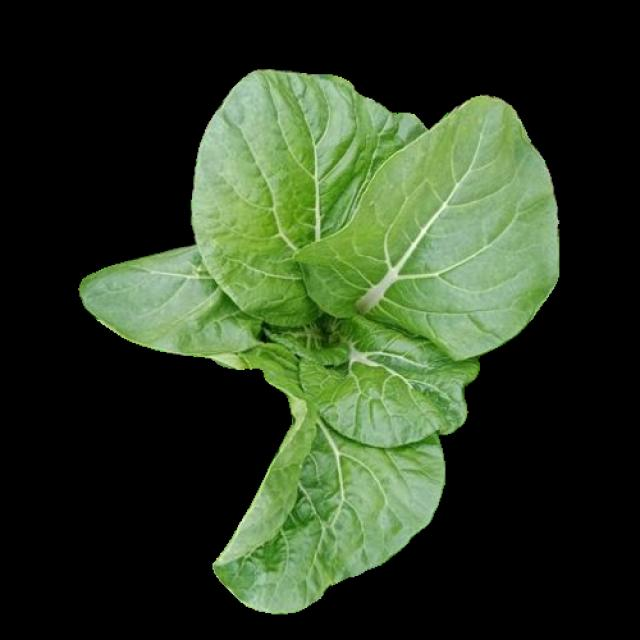healthy: (80, 70, 566, 612)
mature: (78, 68, 563, 609)
